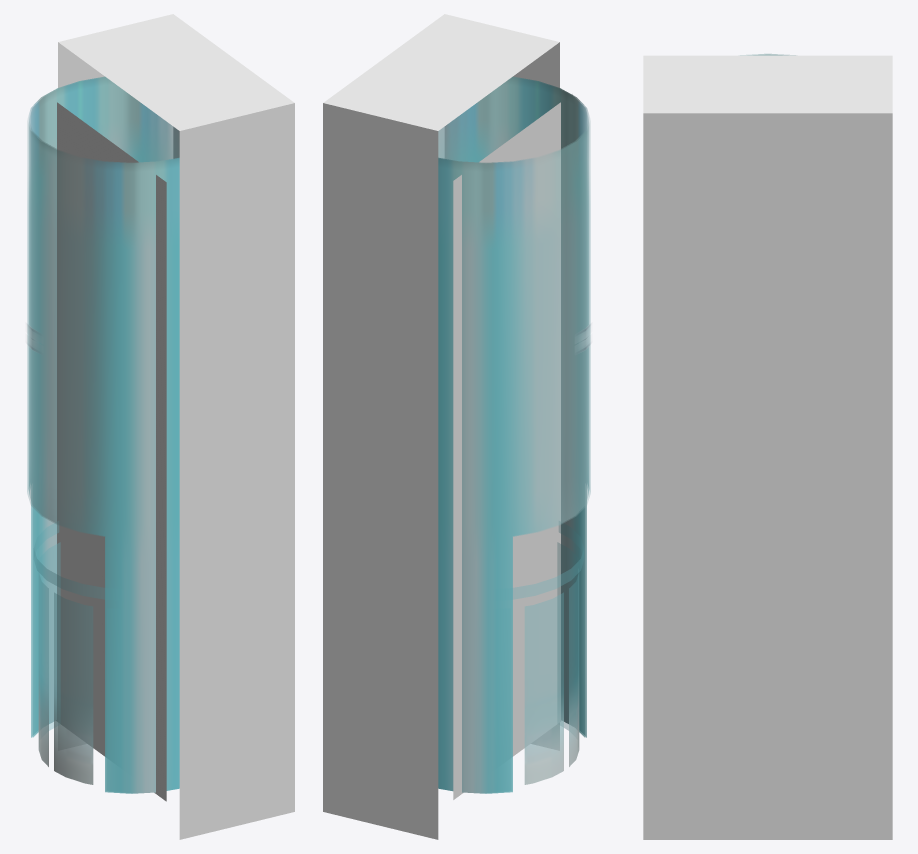
Rendered from my_millenniumlounge_01_elevator_01.glb.
The picture shows the model from 3 angles, left to right: view 1: azimuth 30°, elevation 25°; view 2: azimuth 150°, elevation 25°; view 3: azimuth 270°, elevation 25°; orthographic projection. The views are drawn at different scales.
Parts seen in each view (by area): view 1: my_millenniumlounge_01_elevator_01_cover, my_millenniumlounge_01_elevator_01_out, my_millenniumlounge_01_elevator_01_hole; view 2: my_millenniumlounge_01_elevator_01_cover, my_millenniumlounge_01_elevator_01_out, my_millenniumlounge_01_elevator_01_hole; view 3: my_millenniumlounge_01_elevator_01_cover.
Part boxes in pixels (<box>): my_millenniumlounge_01_elevator_01_cover: <box>58,14,294,839</box>; my_millenniumlounge_01_elevator_01_out: <box>27,76,179,793</box>; my_millenniumlounge_01_elevator_01_hole: <box>56,102,166,801</box>; my_millenniumlounge_01_elevator_01_cover: <box>323,14,559,839</box>; my_millenniumlounge_01_elevator_01_out: <box>438,76,590,793</box>; my_millenniumlounge_01_elevator_01_hole: <box>453,94,572,799</box>; my_millenniumlounge_01_elevator_01_cover: <box>643,55,892,839</box>.
Bounding box in the file's own units: 0.0138 × 0.0461 × 0.0156.
7 materials, 5 textured.
